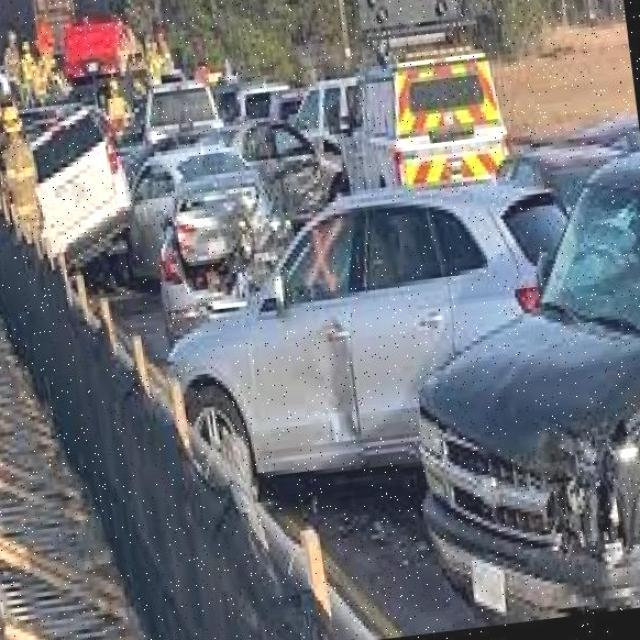accident: (46, 85, 361, 357), (402, 338, 640, 631)
